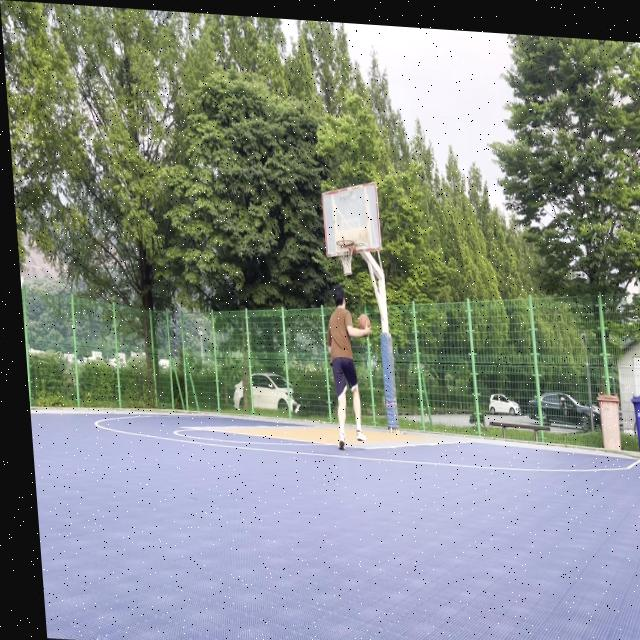basketball: (357, 313, 371, 330)
hoop: (336, 239, 357, 278)
